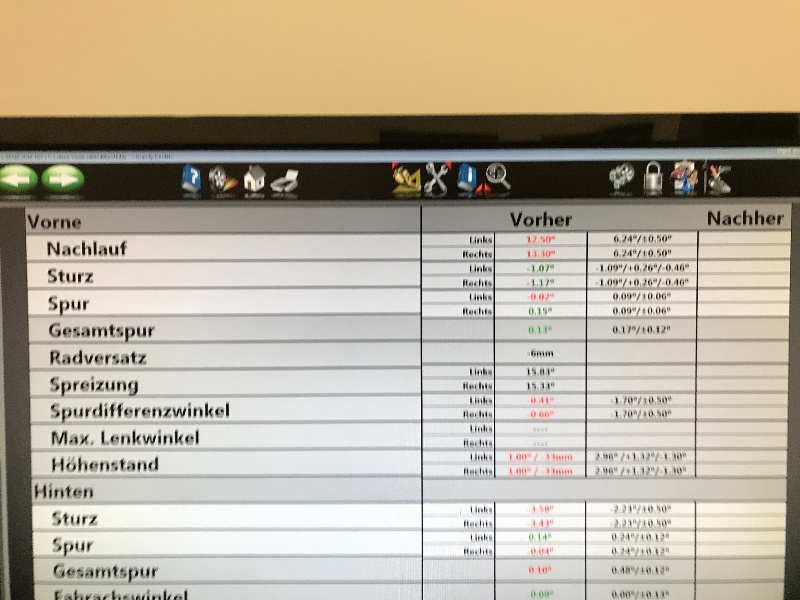wam_one: (20, 202, 586, 600)
